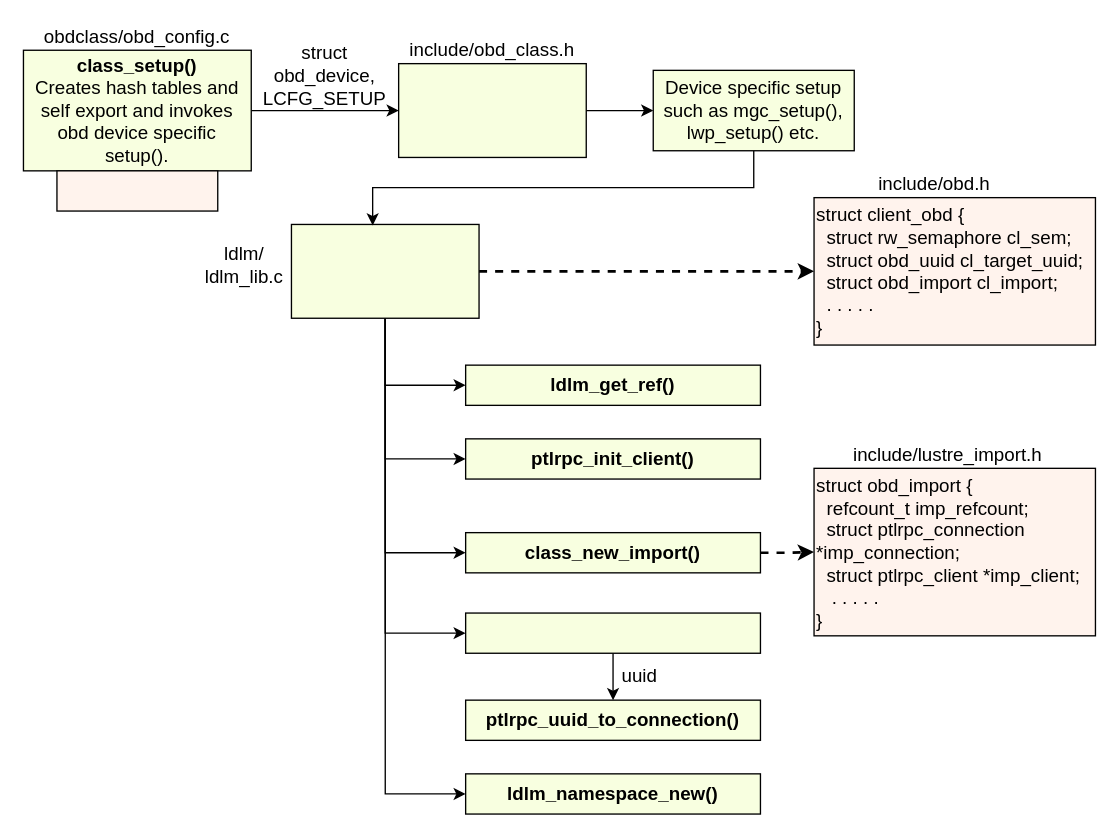
This 1119x838 diagram has some shape labels left out. The centre of each missing label's shape, as x and y in pixels:
"client_import_add_connection()" belongs at [612,632].
"client_obd_setup() Invoked by specific client obd device." belongs at [384,270].
"obd_setup() Pre-stage before invoking device specific setup." belongs at [491,109].
"obd_starting = 1" belongs at [137,190].
